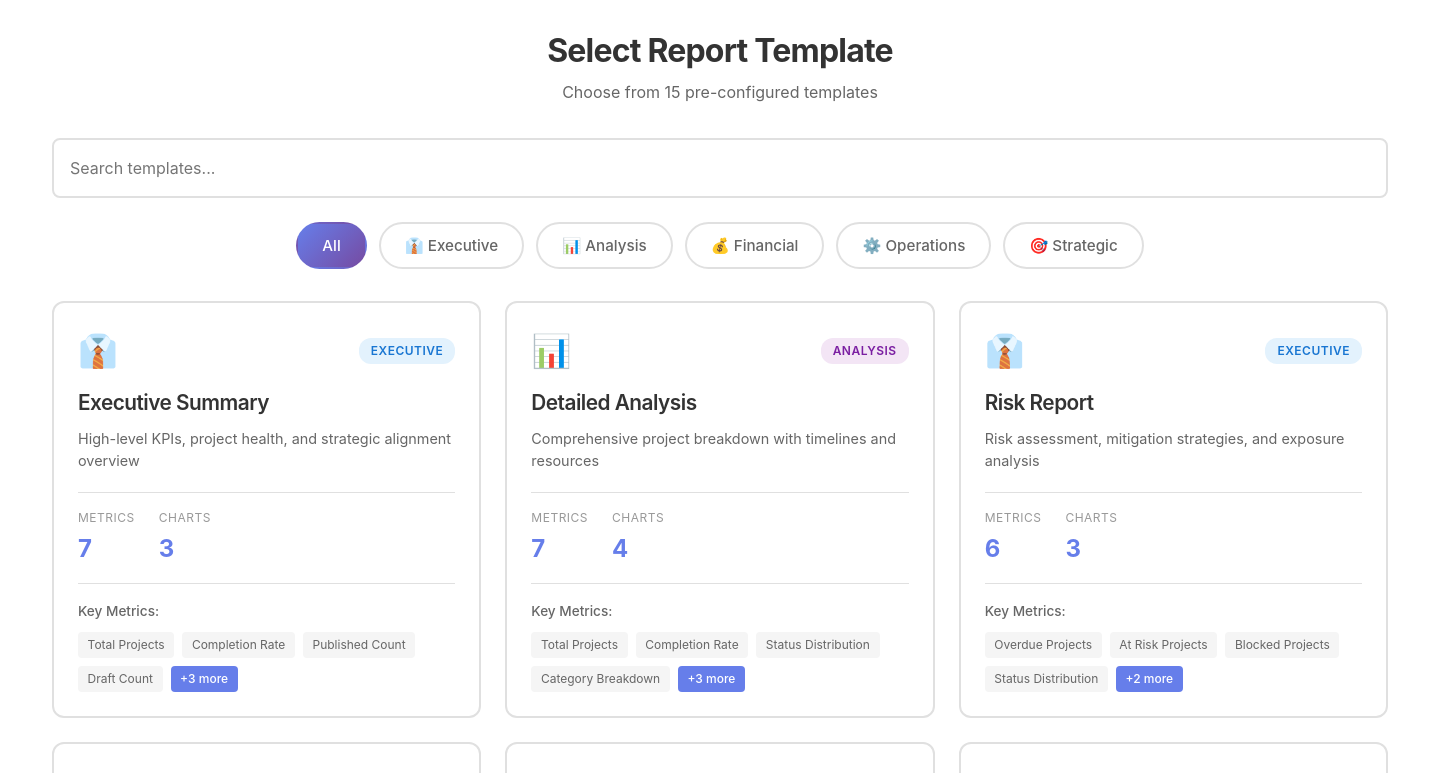
TemplateSelector › Category Filtering › should filter by executive category
What coordinates should you click on to do the following:
click the button "👔 Executive"
I would click on:
 (451, 246)
Its box is top-left (379, 222), bottom-right (524, 269).
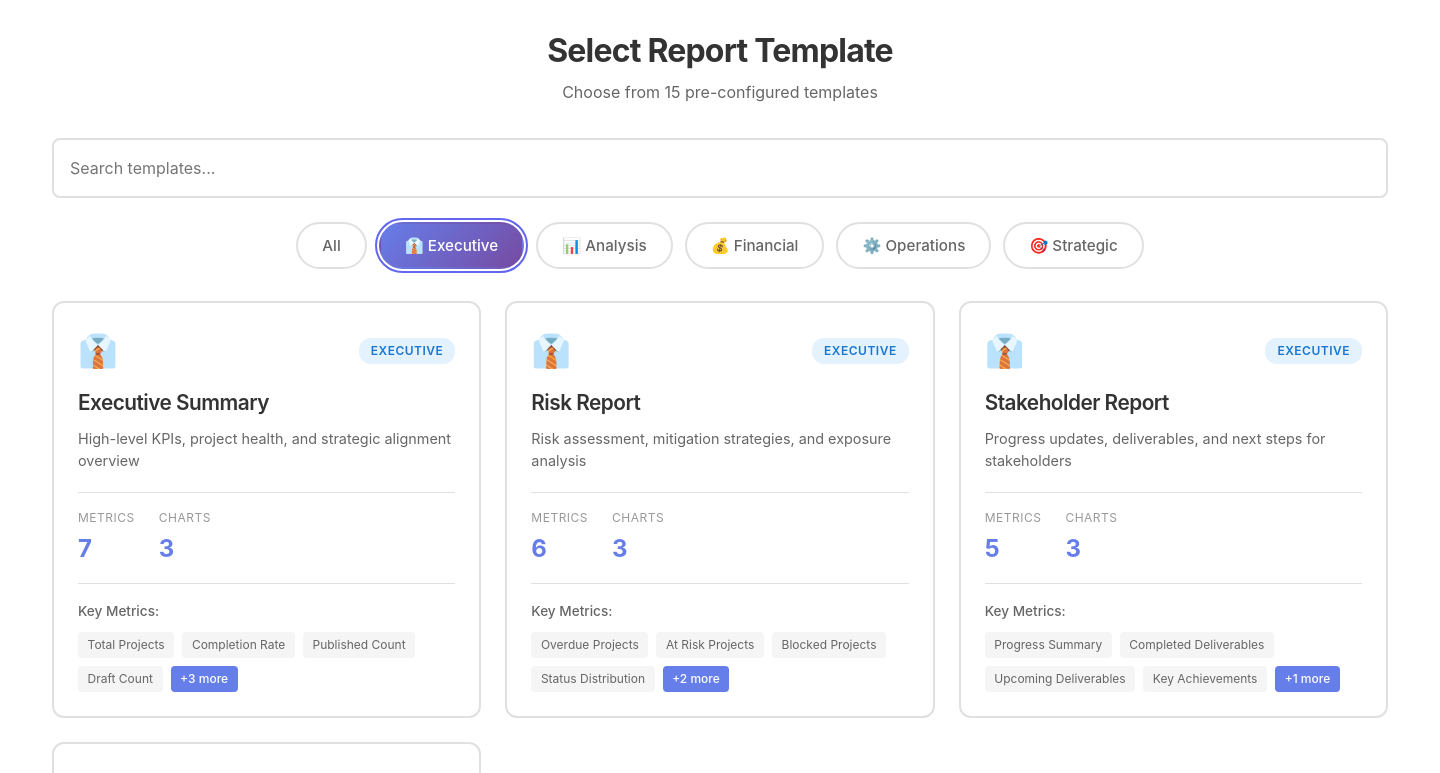
Check: the heading "Executive Summary" is shown, box top-left (78, 390), bottom-right (269, 415)
Check: the button "Detailed Analysis" is gone
